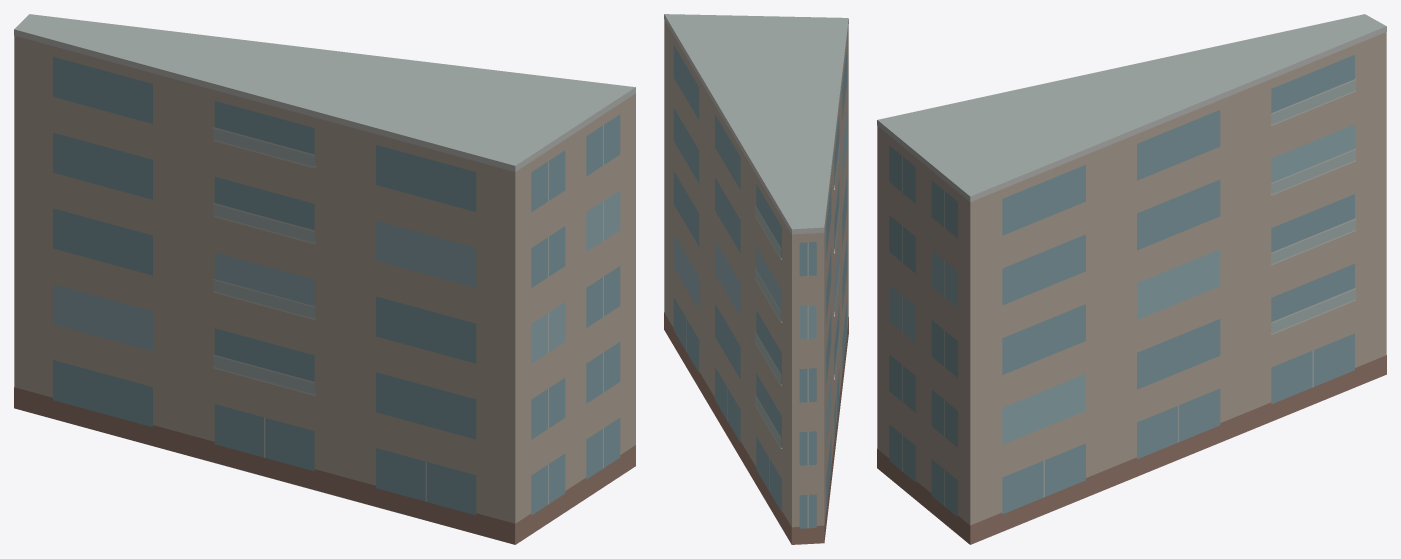
The model's file is survey-upis-32759377.glb.
3 renders of one model, left to right at view 1: azimuth 30°, elevation 25°; view 2: azimuth 150°, elevation 25°; view 3: azimuth 270°, elevation 25°, orthographic. The views are drawn at different scales.
Parts seen in each view (by area): view 1: survey-upis-32759377.tmp; view 2: survey-upis-32759377.tmp; view 3: survey-upis-32759377.tmp.
Boxes of the visible parts, x1,y1,x2,y2 form: survey-upis-32759377.tmp: (14, 14, 635, 544); survey-upis-32759377.tmp: (664, 14, 848, 544); survey-upis-32759377.tmp: (877, 14, 1386, 544).
Bounding box in the file's own units: 16.87 × 15 × 19.89.
